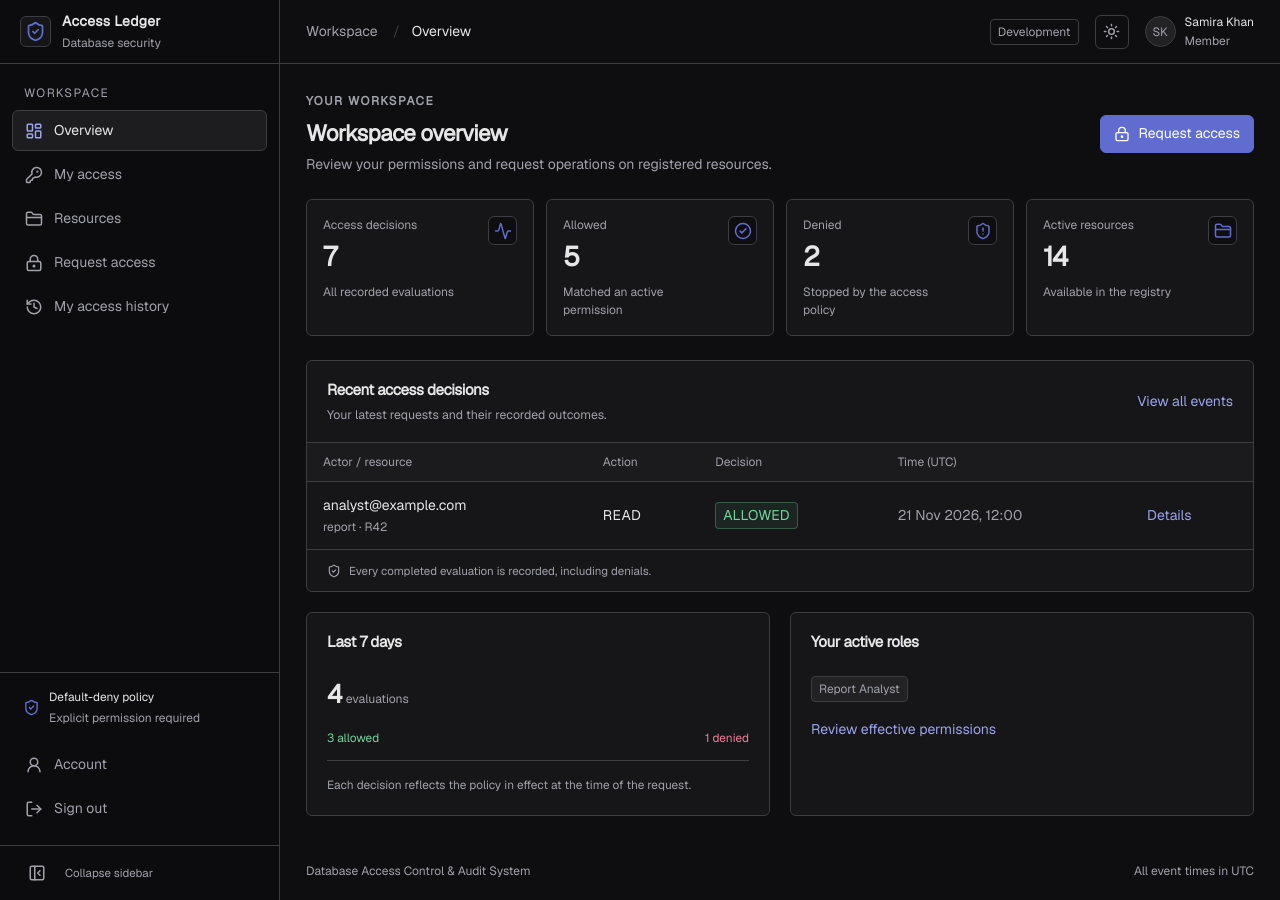
authentication and protected navigation › logs out only after a confirmed backend response
The width and height of the screenshot is (1280, 900).
Click the button "Sign out" at point(140, 808), box [12,788,267,829]
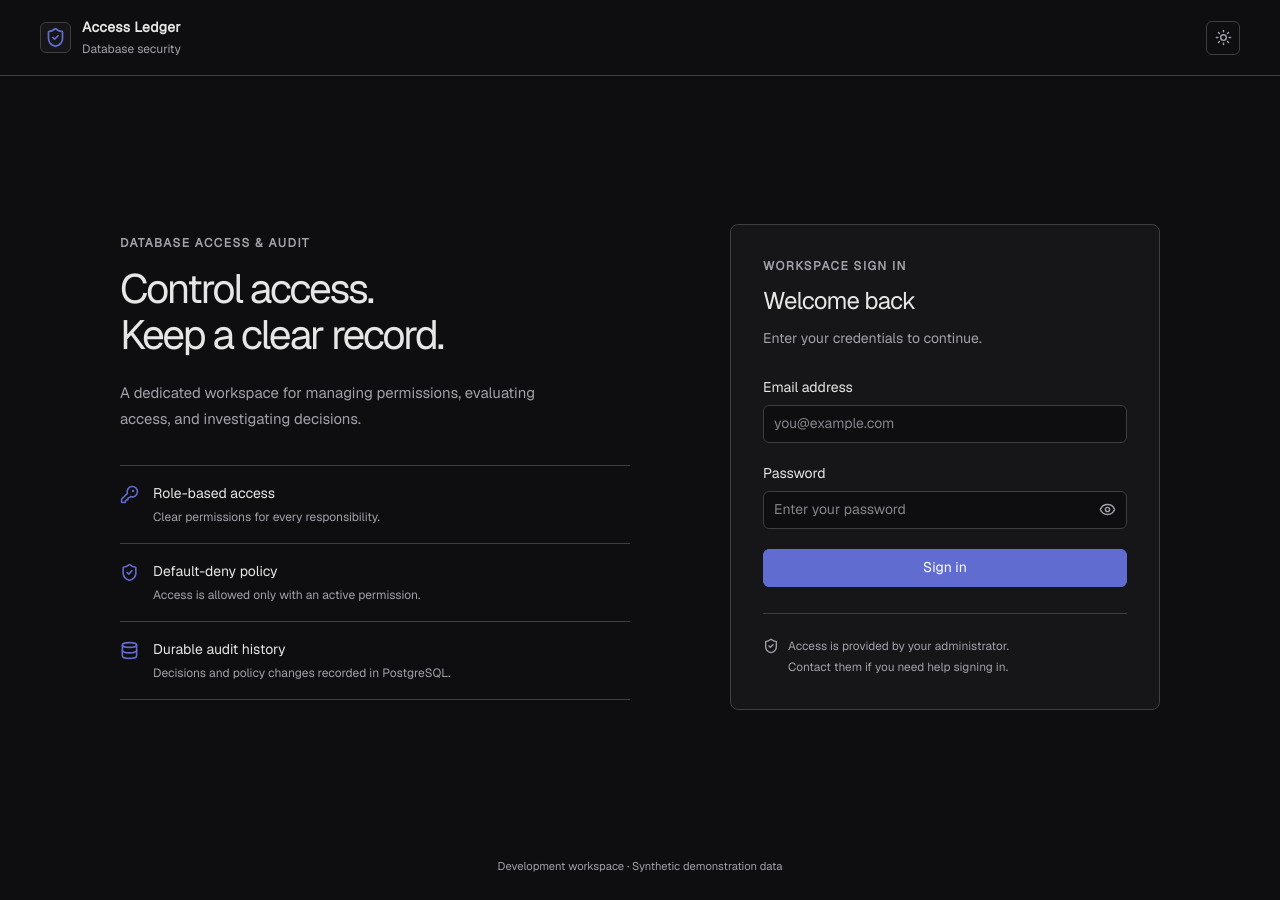
expect the field labelled "Email address" is shown: met, box [763,405,1127,443]
